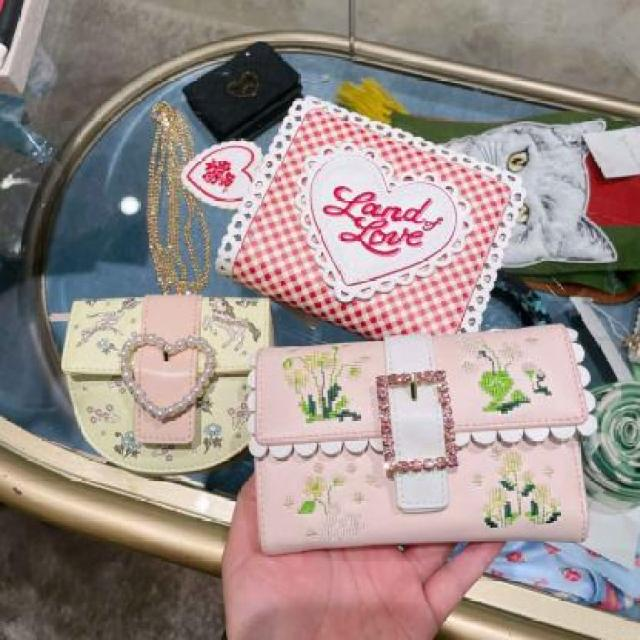Bag: (185, 86, 604, 380), (220, 288, 606, 603), (46, 245, 306, 500)
